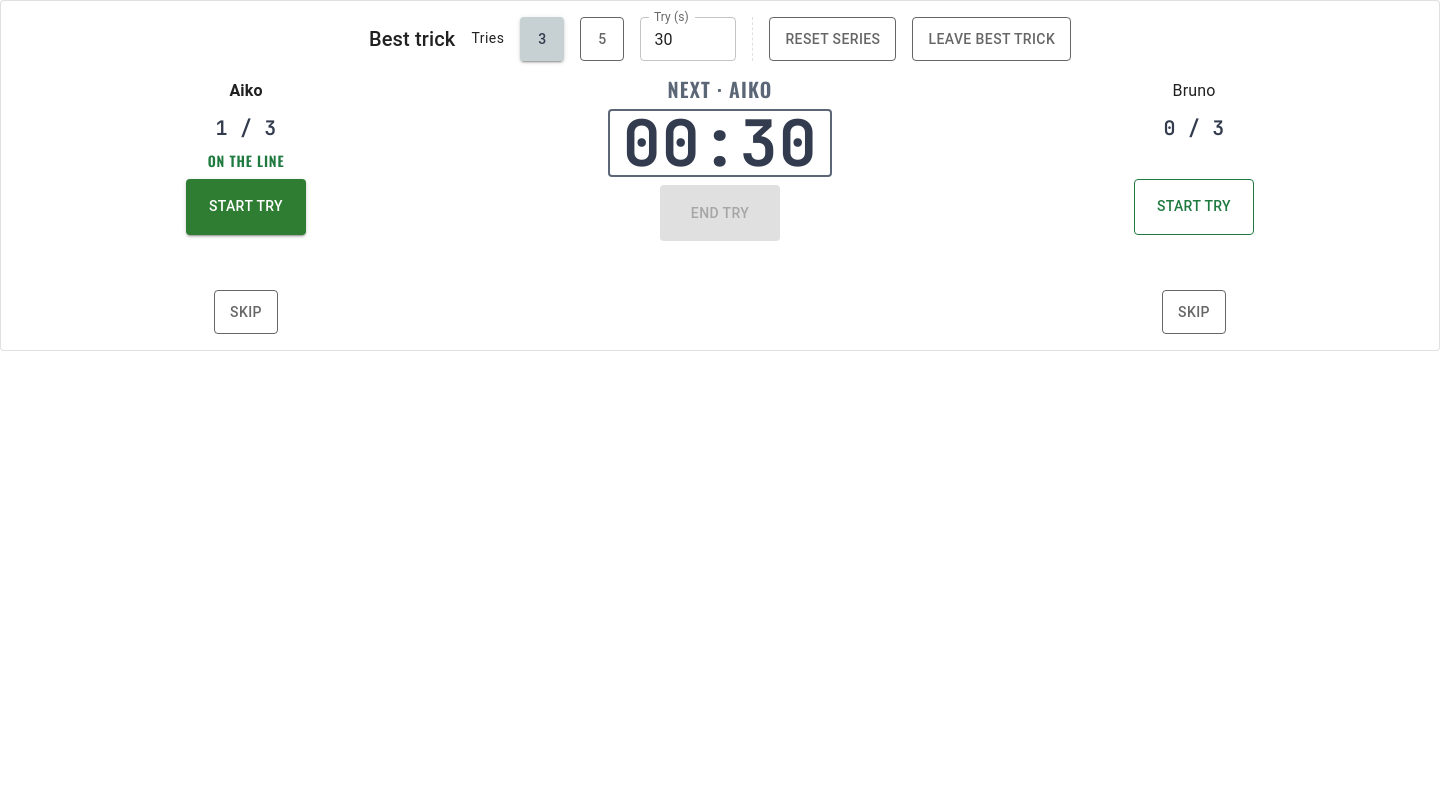
Scenario: BestTrickPanel — Reset series guard › answers with the button the guard registered
Click the button "Reset series".
click(833, 39)  # box [769,17,896,61]
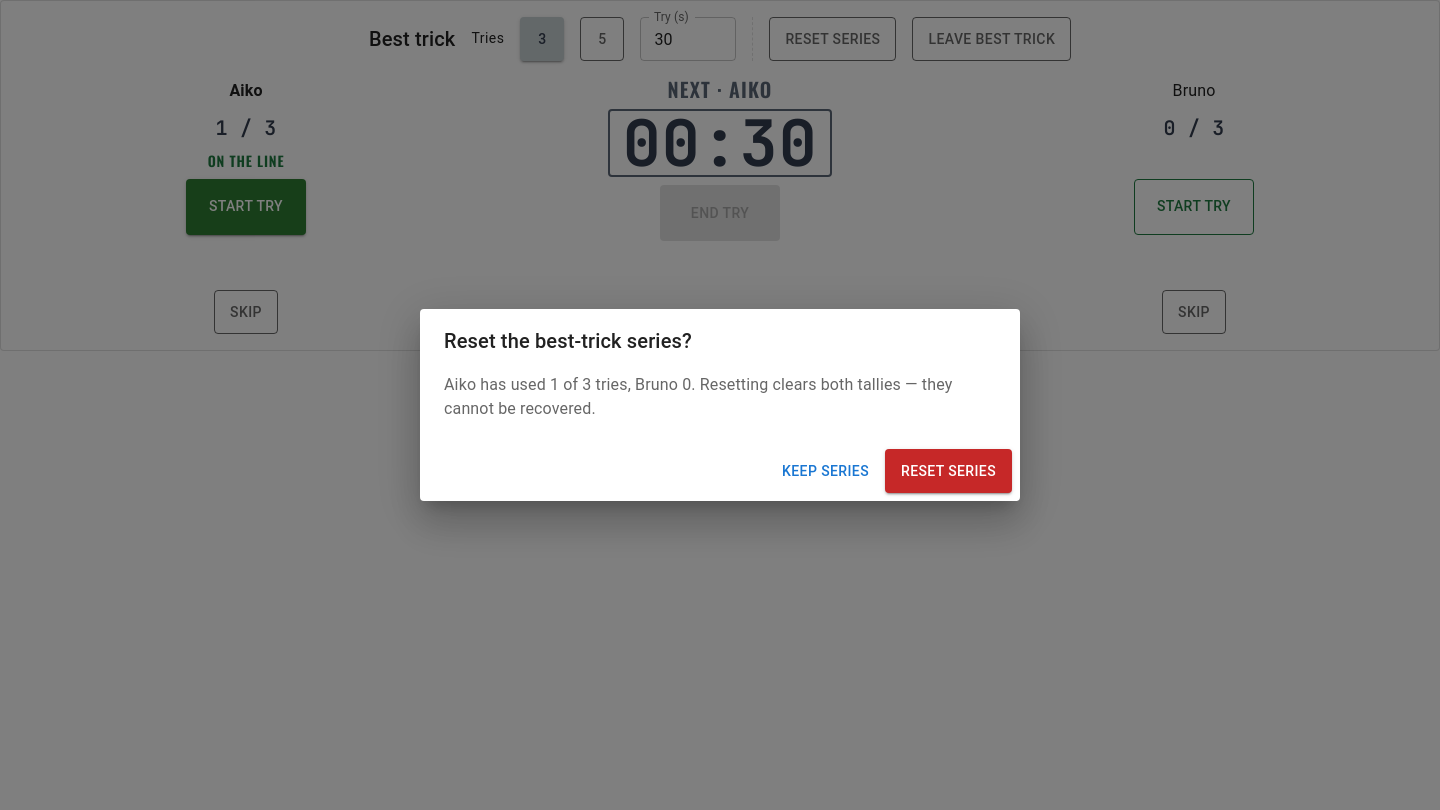
Result: the dialog is shown at [420,309,1020,501]
